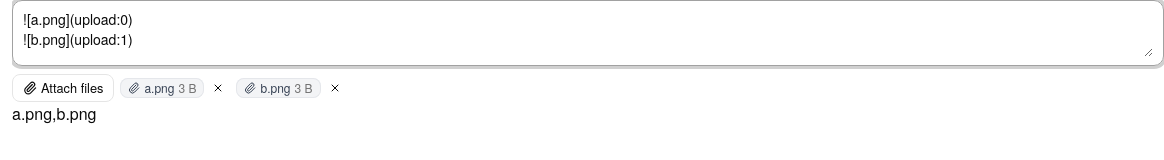
IssueTextField › removing a file removes its reference and renumbers the rest
The width and height of the screenshot is (1164, 160).
Click the button named "Remove a.png" at (218, 88), box [206,76,230,100]
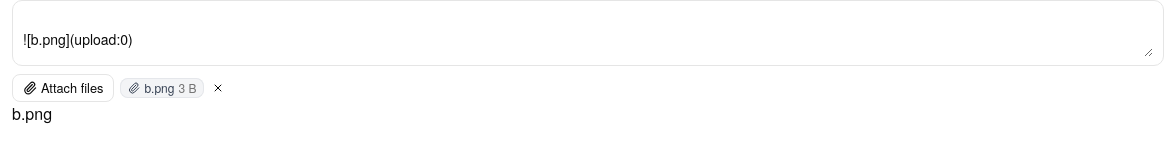
Expected: the text with test id "names" reads "b.png", [12,102,52,125]
